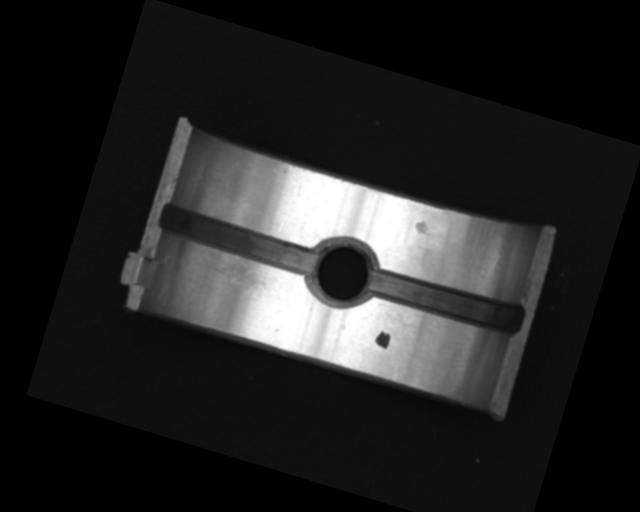blot: (373, 328, 392, 350)
bruise: (413, 218, 430, 236)
gap: (154, 200, 321, 279), (365, 263, 526, 340)
hole: (302, 232, 385, 313)
nick: (277, 182, 302, 235)
scratch: (191, 247, 272, 303)
